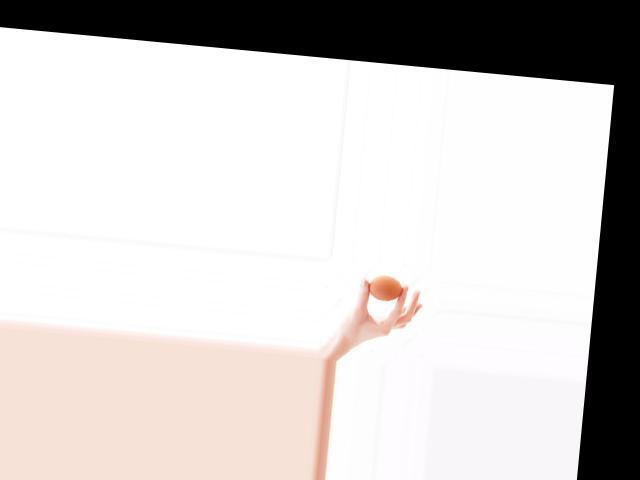egg: (367, 273, 403, 301)
